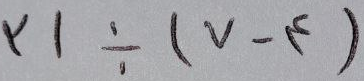character: (101, 21, 146, 75), (338, 7, 362, 81), (2, 14, 35, 54), (170, 12, 193, 68), (285, 13, 308, 58), (203, 16, 233, 49), (54, 10, 68, 59), (252, 38, 267, 65)
